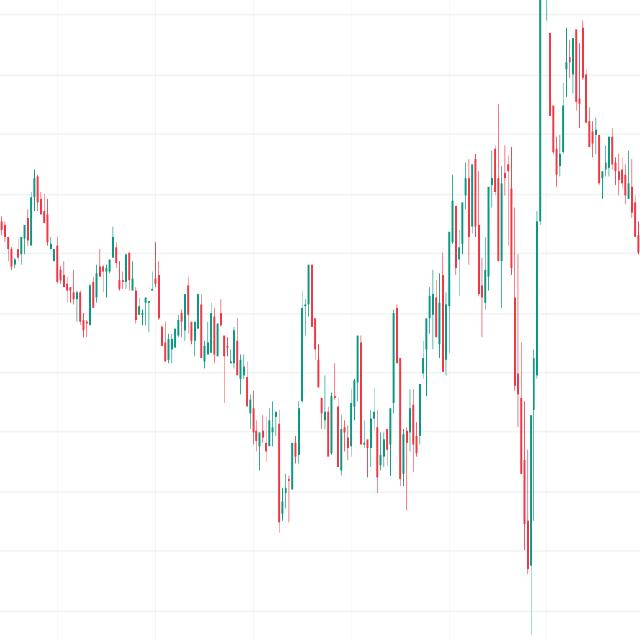Triple-Bottom: (306, 248, 436, 496)
